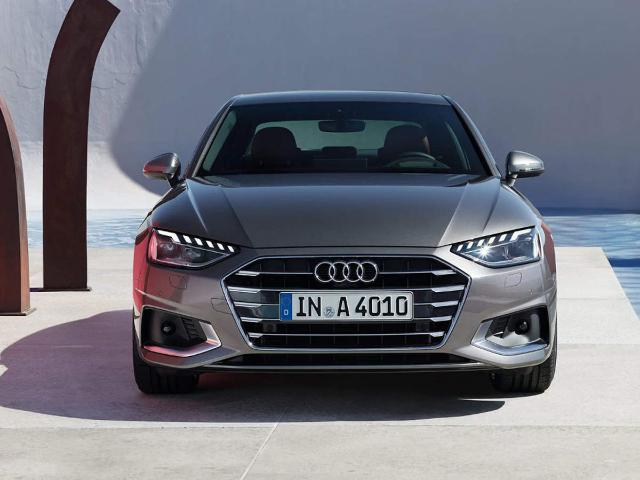audi: (132, 90, 558, 398)
